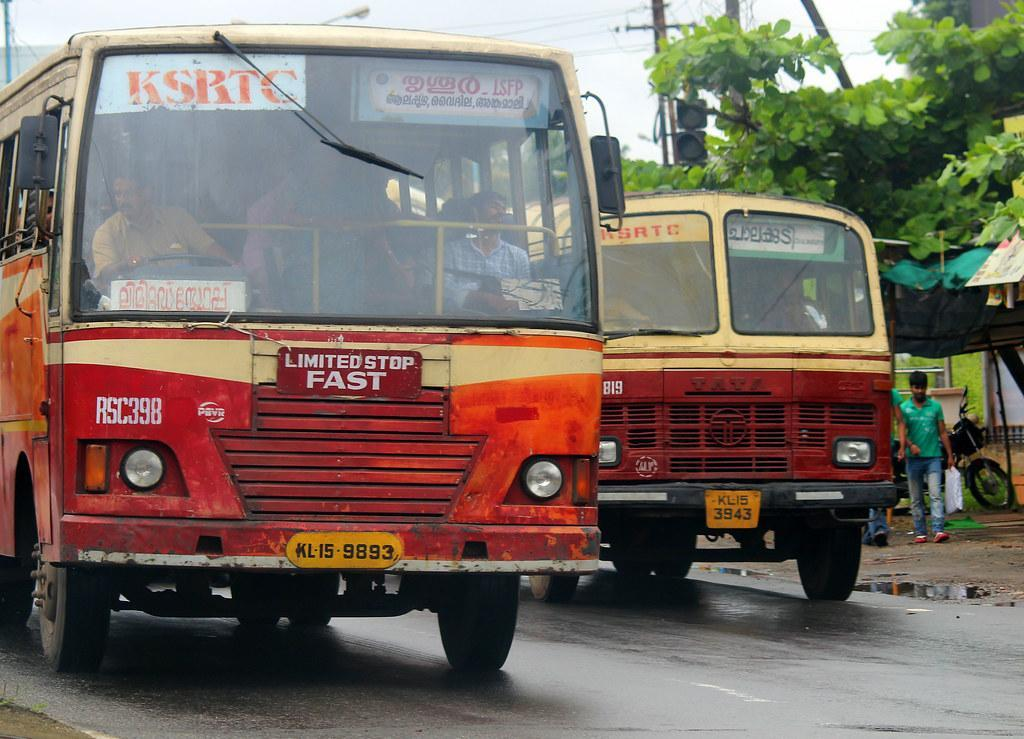Bus: (0, 29, 615, 685), (596, 193, 897, 604), (126, 65, 299, 111)
